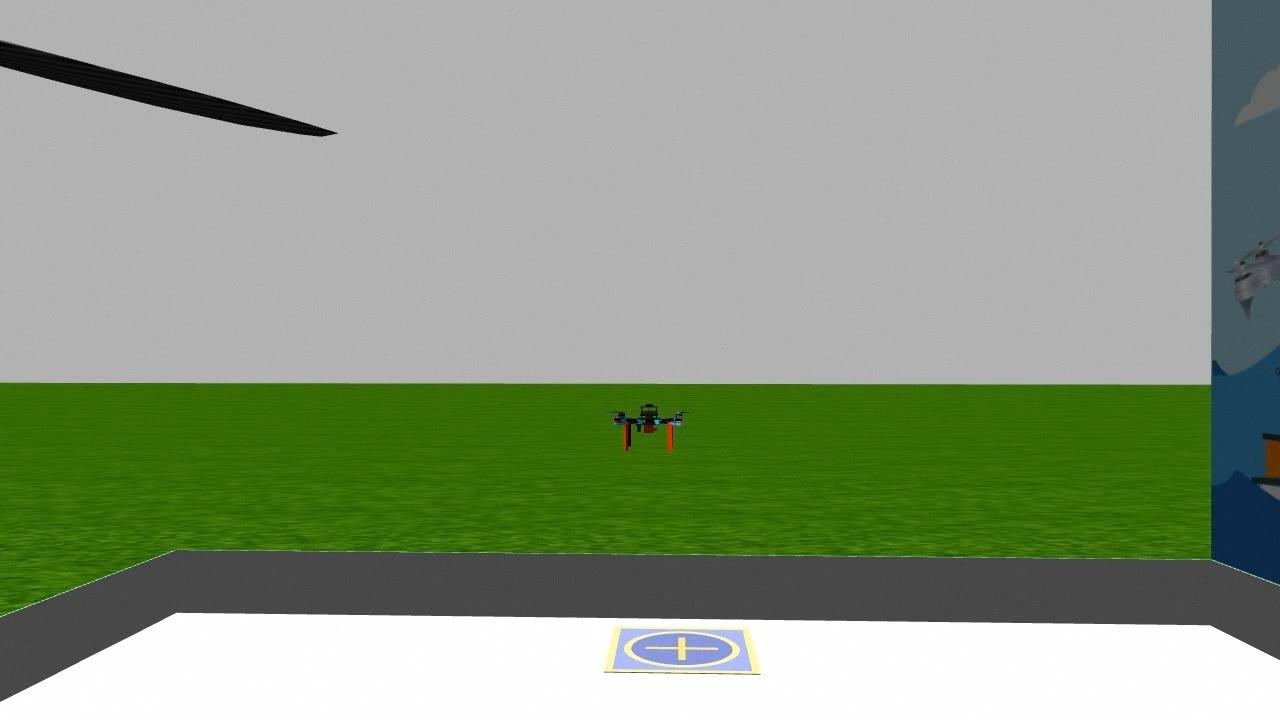UAV: (606, 397, 696, 456)
